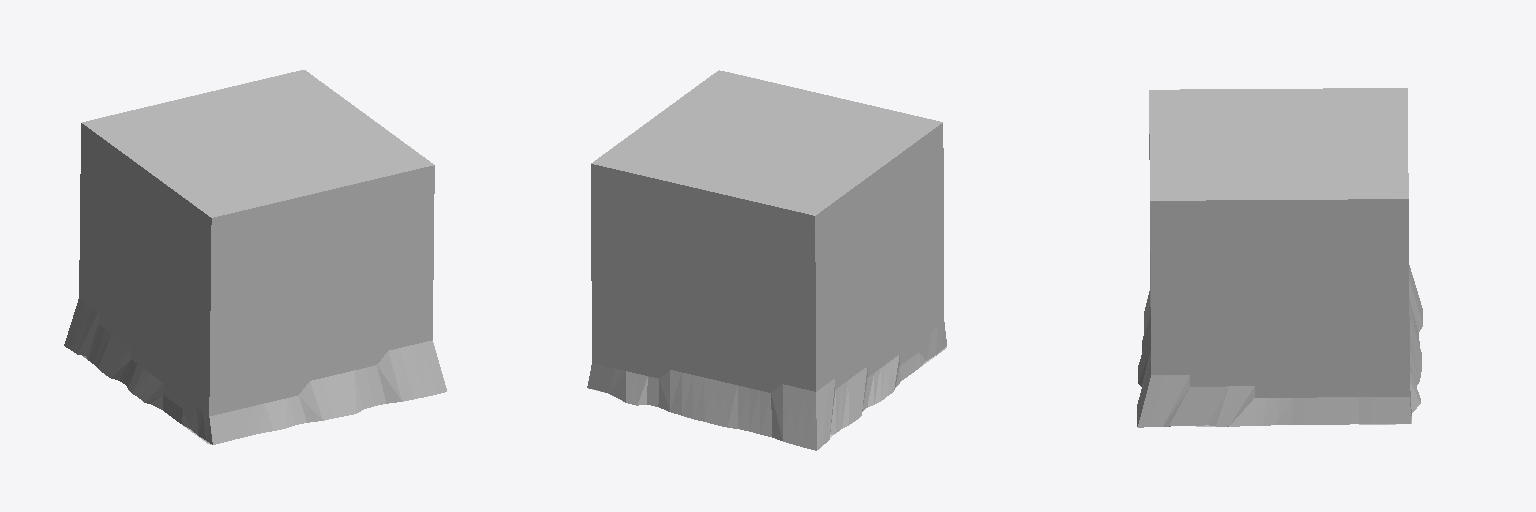
The model's file is mod0132.obj.
3 views of the same model, side by side, from view 1: azimuth 30°, elevation 25°; view 2: azimuth 150°, elevation 25°; view 3: azimuth 270°, elevation 25° (orthographic).
Parts seen in each view (by area): view 1: Box001; view 2: Box001; view 3: Box001.
Part boxes in pixels (left/top/right/bottom): Box001: left=64, top=70, right=446, bottom=444; Box001: left=587, top=70, right=946, bottom=450; Box001: left=1137, top=88, right=1422, bottom=427.
Size of the model in its own units: 0.5799 by 0.5234 by 0.5979.